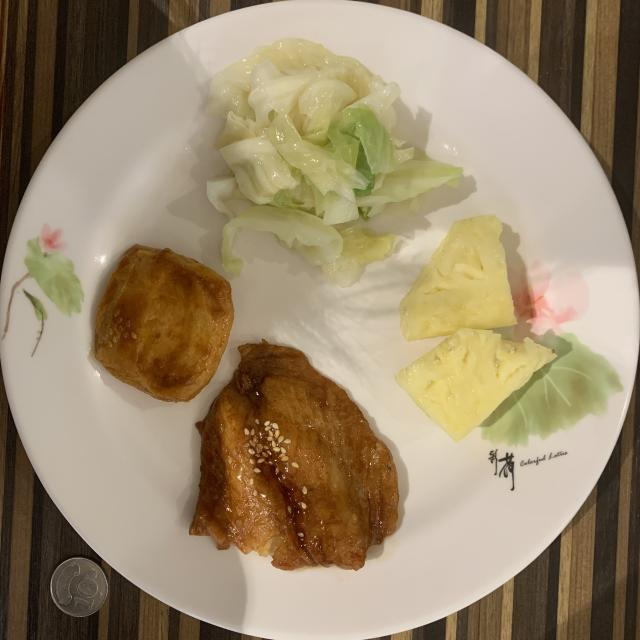Kabayaki sea bream fillet: (190, 341, 399, 570)
cabbage: (206, 39, 462, 286)
coin: (50, 558, 109, 618)
creamy tofu: (95, 245, 234, 401)
pineapple: (396, 215, 556, 441)
